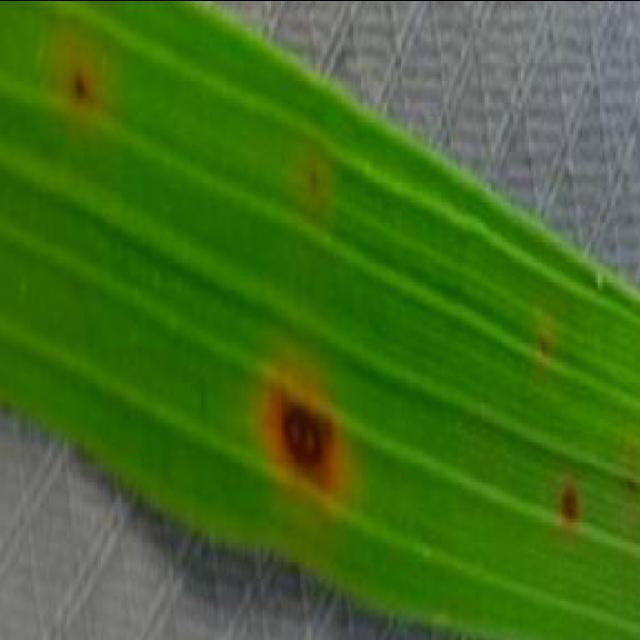Brown_Spot: (238, 349, 369, 515), (180, 358, 213, 427), (548, 466, 582, 526), (526, 321, 558, 366), (60, 60, 91, 106), (296, 156, 324, 198), (615, 462, 640, 502)
